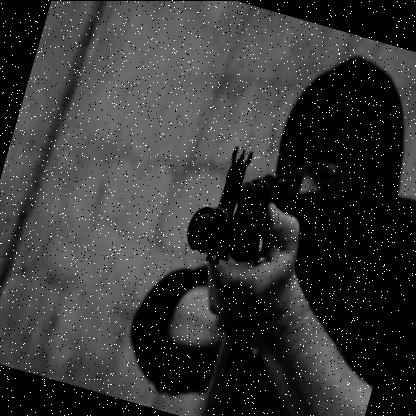rifle: (163, 124, 317, 322)
